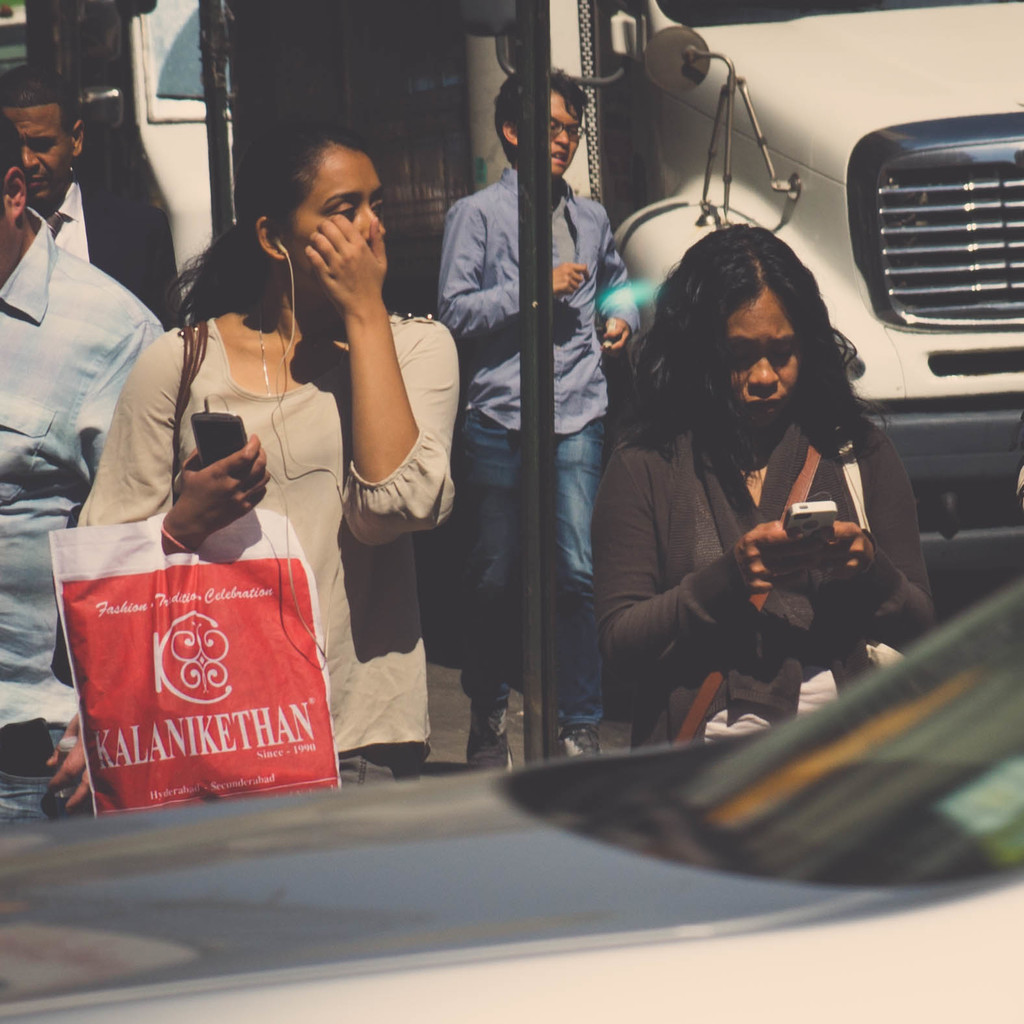Car: (0, 563, 1023, 1023)
